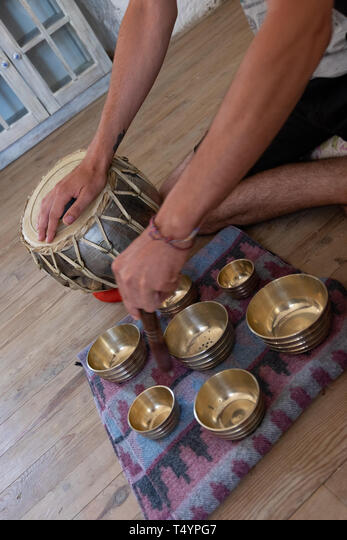tabla: (18, 150, 160, 274)
